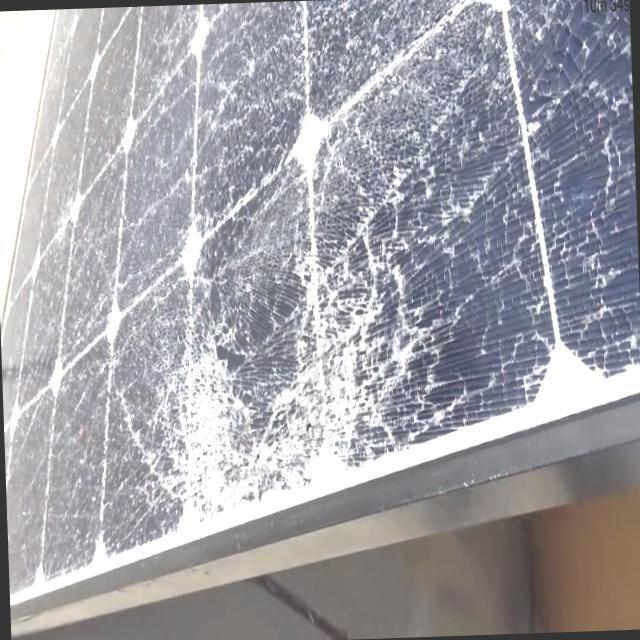faulty: (4, 6, 640, 636)
